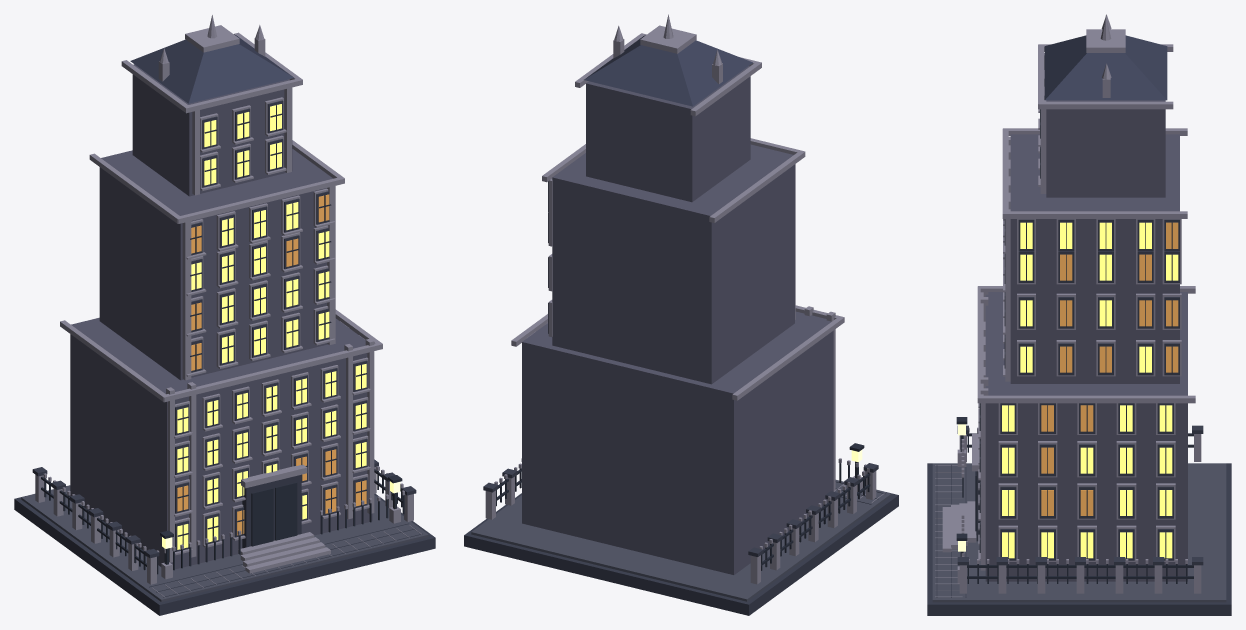
Rendered from account_building_03.glb.
3 views of the same model, side by side, from view 1: azimuth 30°, elevation 25°; view 2: azimuth 150°, elevation 25°; view 3: azimuth 270°, elevation 25° (orthographic). The views are drawn at different scales.
Parts seen in each view (by area): view 1: SM_Account_Building_03; view 2: SM_Account_Building_03; view 3: SM_Account_Building_03.
Boxes of the visible parts, box(x1,y1,x2,y2) form: SM_Account_Building_03: box(14, 15, 435, 615); SM_Account_Building_03: box(464, 14, 898, 615); SM_Account_Building_03: box(927, 14, 1231, 615).
Size of the model in its own units: 10.1 by 17.68 by 9.2.
